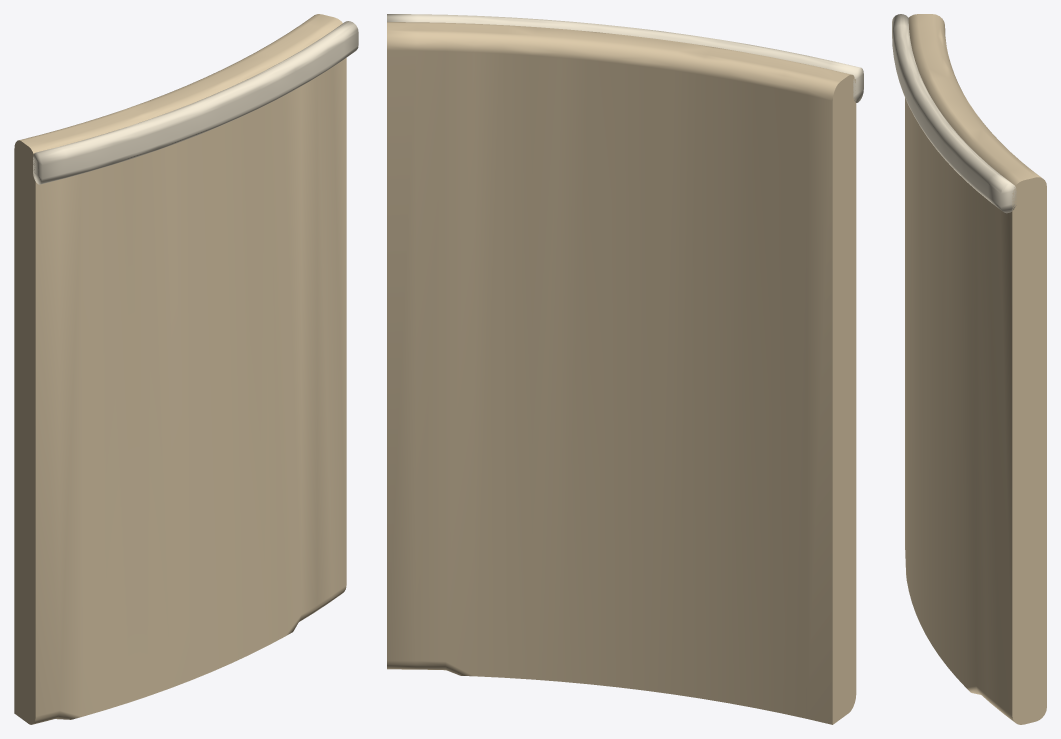
Rendered from ArcWall_R4_A30.glb.
The picture shows the model from 3 angles, left to right: view 1: azimuth 30°, elevation 25°; view 2: azimuth 150°, elevation 25°; view 3: azimuth 270°, elevation 25°; orthographic projection. The views are drawn at different scales.
Parts seen in each view (by area): view 1: PBK_substrate.001, PBK_floor_band.001; view 2: PBK_substrate.001, PBK_floor_band.001; view 3: PBK_substrate.001, PBK_floor_band.001.
Boxes of the visible parts, x1,y1,x2,y2 form: PBK_substrate.001: (14, 14, 346, 724); PBK_floor_band.001: (33, 21, 358, 184); PBK_substrate.001: (387, 22, 856, 724); PBK_floor_band.001: (387, 14, 863, 102); PBK_substrate.001: (905, 14, 1046, 724); PBK_floor_band.001: (892, 14, 1016, 213).
Size of the model in its own units: 2.03 by 3 by 0.7741.
